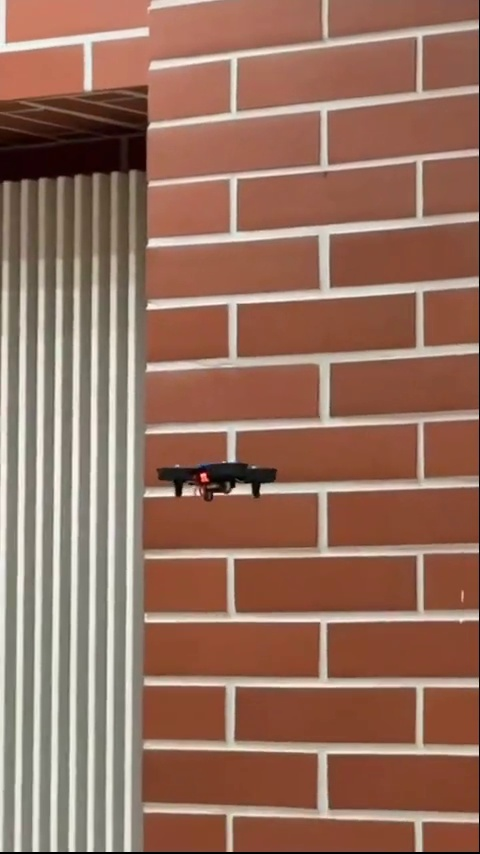drone: (153, 454, 285, 501)
